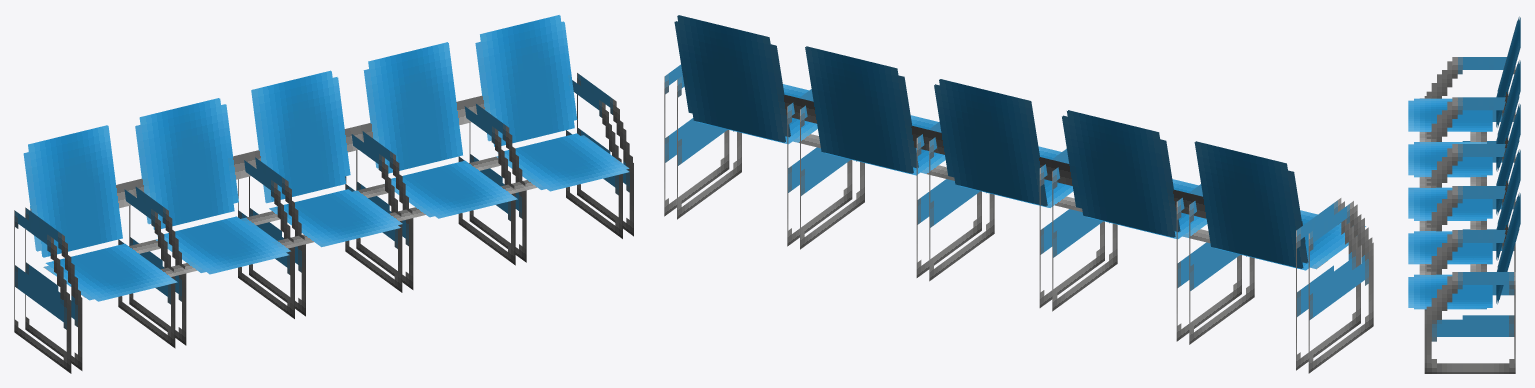
Rendered from Chair.fbx.
The picture shows the model from 3 angles, left to right: view 1: azimuth 30°, elevation 25°; view 2: azimuth 150°, elevation 25°; view 3: azimuth 270°, elevation 25°; orthographic projection. The views are drawn at different scales.
Parts seen in each view (by area): view 1: Chair; view 2: Chair; view 3: Chair.
Boxes of the visible parts, x1,y1,x2,y2 form: Chair: (14, 15, 633, 373); Chair: (664, 15, 1373, 373); Chair: (1408, 16, 1520, 373).
Bounding box in the file's own units: 25.34 × 7.8 × 5.68.
Materials: 1 (1 with a texture image).
